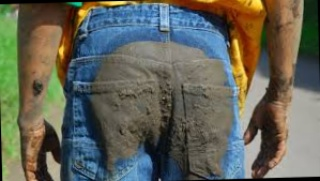earth: (104, 61, 224, 147), (117, 45, 199, 63), (178, 150, 214, 173)
